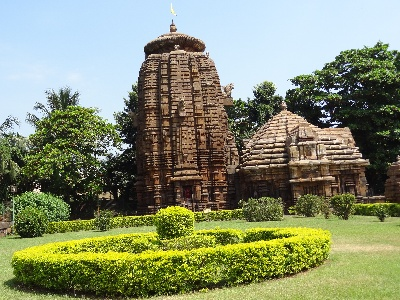amalaka: (133, 32, 220, 53)
gopuram: (123, 55, 244, 188)
